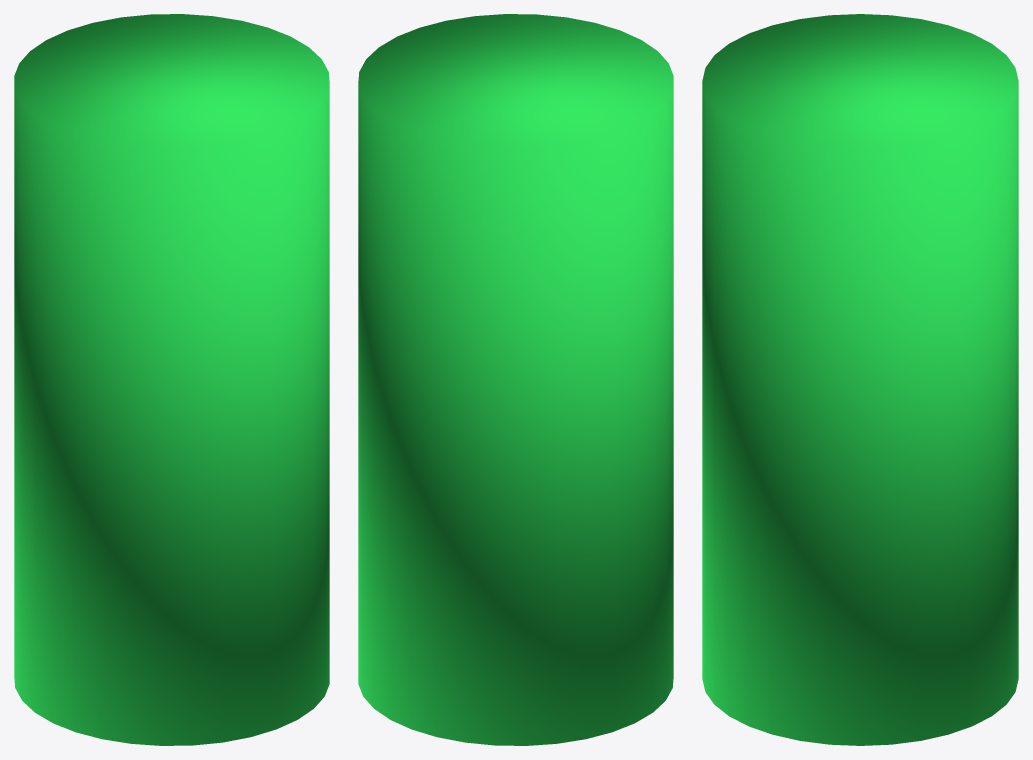
The model's file is Cilindro.gltf.
3 renders of one model, left to right at view 1: azimuth 30°, elevation 25°; view 2: azimuth 150°, elevation 25°; view 3: azimuth 270°, elevation 25°, orthographic.
Visible parts, largest first — view 1: Cilindro; view 2: Cilindro; view 3: Cilindro.
Part boxes in pixels (x1=…): Cilindro: x1=14, y1=14, x2=329, y2=745; Cilindro: x1=358, y1=14, x2=673, y2=745; Cilindro: x1=702, y1=14, x2=1018, y2=745.
Size of the model in its own units: 2.61 by 5.45 by 2.61.
